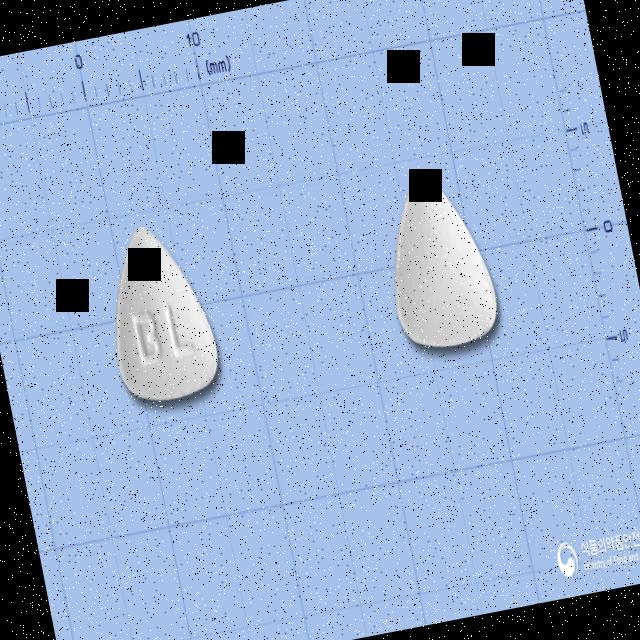Baracle -1mg: (90, 214, 230, 413)
